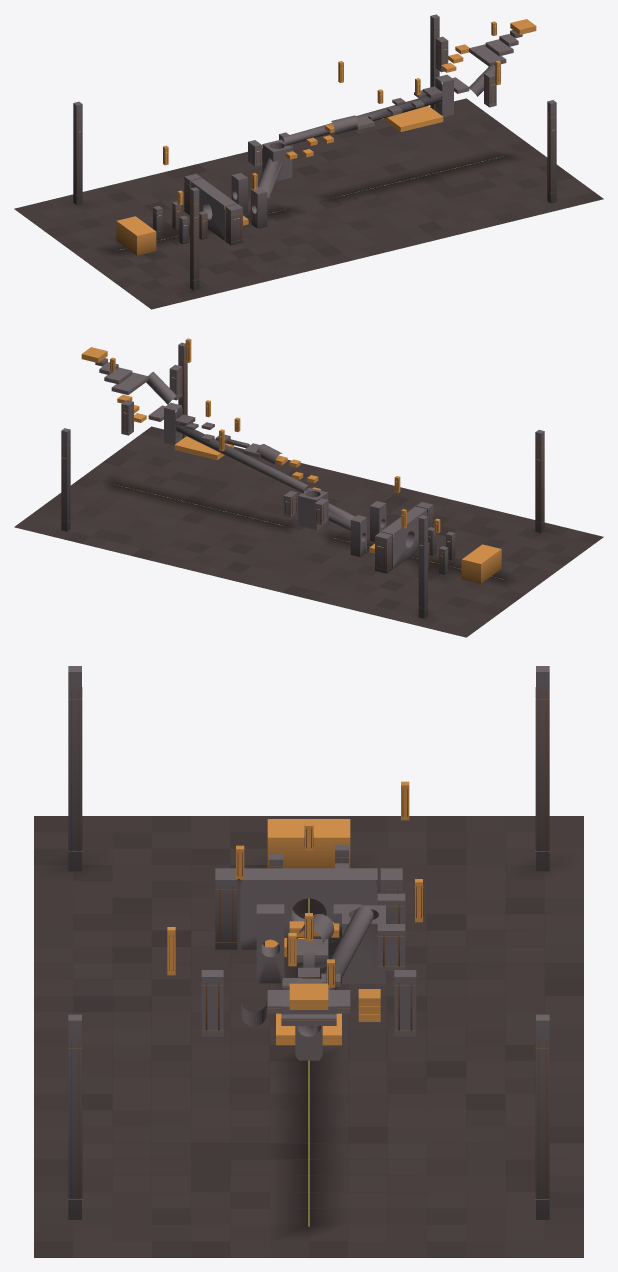
File: 01_world.glb
The picture shows the model from 3 angles, top to bottom: view 1: azimuth 30°, elevation 25°; view 2: azimuth 150°, elevation 25°; view 3: azimuth 270°, elevation 25°; orthographic projection. The views are drawn at different scales.
Visible parts, largest first — view 1: world_11_floor_noshadow_nocol, world_01_floor_noshadow_nocol, world_10_floor_noshadow_nocol, world_00_floor_noshadow_nocol, world_00_body_nocol, world_01_body_nocol, world_11_body_nocol, world_10_body_nocol, world_11_foam_nocol, world_01_foam_nocol, world_00_panel_noshadow_nocol, world_10_foam_nocol (+2 smaller); view 2: world_10_floor_noshadow_nocol, world_00_floor_noshadow_nocol, world_11_floor_noshadow_nocol, world_01_floor_noshadow_nocol, world_00_body_nocol, world_10_body_nocol, world_01_body_nocol, world_11_body_nocol, world_01_foam_nocol, world_11_foam_nocol, world_00_panel_noshadow_nocol, world_10_foam_nocol (+3 smaller); view 3: world_10_floor_noshadow_nocol, world_11_floor_noshadow_nocol, world_01_floor_noshadow_nocol, world_00_floor_noshadow_nocol, world_01_body_nocol, world_00_body_nocol, world_11_body_nocol, world_10_body_nocol, world_01_foam_nocol, world_11_foam_nocol, world_10_foam_nocol, world_10_panel_noshadow_nocol (+3 smaller).
Part boxes in pixels (x1=…): world_11_floor_noshadow_nocol: x1=301, y1=149, x2=603, y2=255; world_01_floor_noshadow_nocol: x1=83, y1=206, x2=376, y2=309; world_10_floor_noshadow_nocol: x1=232, y1=98, x2=534, y2=205; world_00_floor_noshadow_nocol: x1=14, y1=155, x2=300, y2=258; world_00_body_nocol: x1=73, y1=101, x2=292, y2=234; world_01_body_nocol: x1=179, y1=178, x2=267, y2=290; world_11_body_nocol: x1=356, y1=30, x2=556, y2=203; world_10_body_nocol: x1=282, y1=14, x2=453, y2=145; world_11_foam_nocol: x1=322, y1=19, x2=536, y2=143; world_01_foam_nocol: x1=116, y1=149, x2=313, y2=255; world_00_panel_noshadow_nocol: x1=73, y1=113, x2=291, y2=231; world_10_foam_nocol: x1=306, y1=21, x2=496, y2=145; world_10_floor_noshadow_nocol: x1=14, y1=477, x2=316, y2=584; world_00_floor_noshadow_nocol: x1=240, y1=534, x2=534, y2=637; world_11_floor_noshadow_nocol: x1=83, y1=426, x2=385, y2=533; world_01_floor_noshadow_nocol: x1=318, y1=483, x2=603, y2=587; world_00_body_nocol: x1=283, y1=488, x2=448, y2=618; world_10_body_nocol: x1=61, y1=400, x2=308, y2=531; world_01_body_nocol: x1=370, y1=430, x2=544, y2=568; world_11_body_nocol: x1=95, y1=342, x2=260, y2=457; world_01_foam_nocol: x1=307, y1=475, x2=501, y2=583; world_11_foam_nocol: x1=81, y1=338, x2=300, y2=467; world_00_panel_noshadow_nocol: x1=285, y1=495, x2=447, y2=608; world_10_foam_nocol: x1=110, y1=357, x2=303, y2=479; world_10_floor_noshadow_nocol: x1=309, y1=1028, x2=583, y2=1257; world_11_floor_noshadow_nocol: x1=34, y1=1028, x2=308, y2=1257; world_01_floor_noshadow_nocol: x1=34, y1=816, x2=308, y2=1036; world_00_floor_noshadow_nocol: x1=309, y1=816, x2=583, y2=1036; world_01_body_nocol: x1=68, y1=666, x2=377, y2=983; world_00_body_nocol: x1=298, y1=666, x2=549, y2=983; world_11_body_nocol: x1=68, y1=939, x2=350, y2=1219; world_10_body_nocol: x1=295, y1=906, x2=549, y2=1219; world_01_foam_nocol: x1=236, y1=819, x2=350, y2=956; world_11_foam_nocol: x1=167, y1=913, x2=341, y2=1045; world_10_foam_nocol: x1=313, y1=879, x2=422, y2=1021; world_10_panel_noshadow_nocol: x1=326, y1=884, x2=546, y2=1199.
Size of the model in its own units: 380 by 105 by 200.
